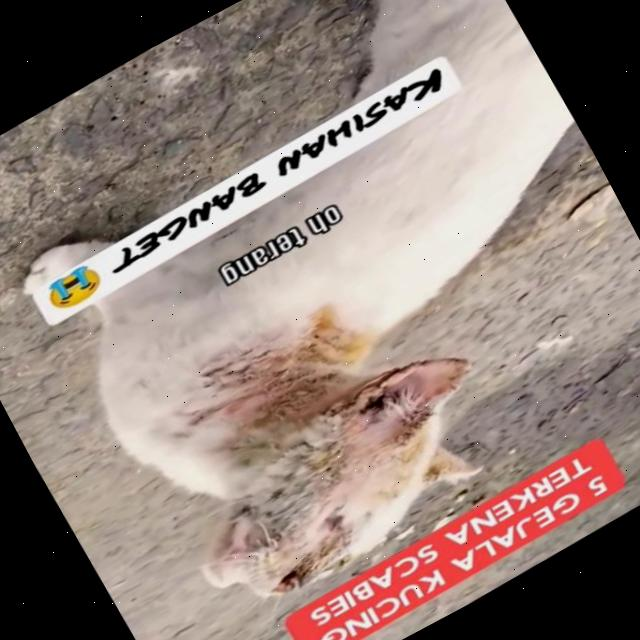cat-scabies: (328, 331, 492, 464), (290, 532, 356, 590)
